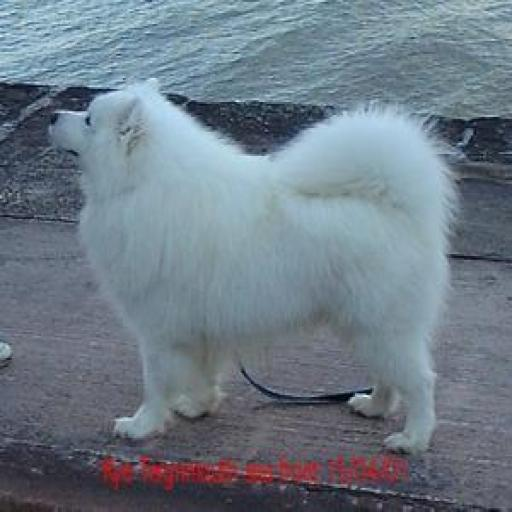dog_face: (38, 82, 151, 184)
